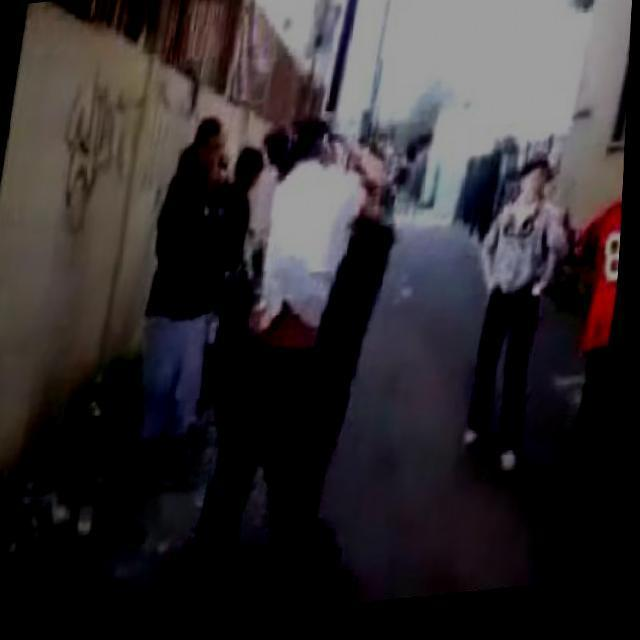fight: (212, 114, 418, 620)
